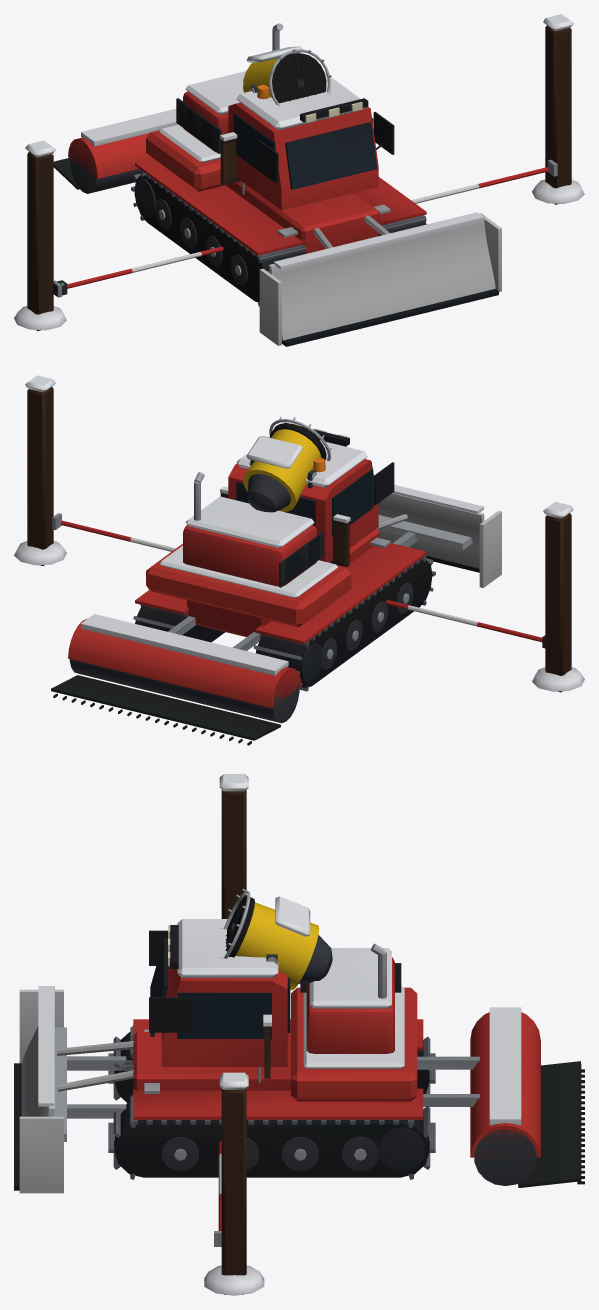
The model's file is props.glb.
3 renders of one model, top to bottom at view 1: azimuth 30°, elevation 25°; view 2: azimuth 150°, elevation 25°; view 3: azimuth 270°, elevation 25°, orthographic. The views are drawn at different scales.
Visible parts, largest first — view 1: propCat, propStart, propGun, propSign; view 2: propCat, propStart, propGun, propSign; view 3: propCat, propStart, propGun.
Boxes of the visible parts, box(x1,y1,x2,y2) form: propCat: box(53, 23, 501, 346); propStart: box(14, 14, 584, 330); propGun: box(243, 46, 331, 106); propSign: box(220, 132, 240, 185); propCat: box(51, 422, 501, 745); propStart: box(14, 375, 584, 692); propGun: box(243, 417, 331, 512); propSign: box(220, 486, 350, 567); propCat: box(14, 919, 584, 1193); propStart: box(204, 774, 264, 1295); propGun: box(220, 889, 332, 990).
Size of the model in its own units: 12.2 by 4.36 by 9.05.
